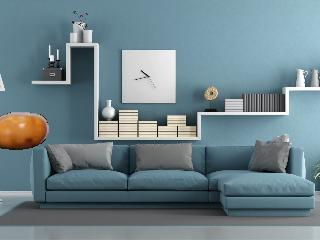potato: (0, 113, 49, 150)
